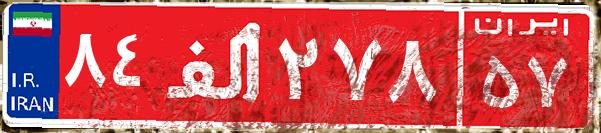2: (273, 28, 330, 110)
4: (110, 28, 158, 105)
5: (475, 38, 525, 113)
7: (330, 28, 385, 110), (525, 38, 570, 115)
8: (385, 28, 445, 110), (57, 26, 110, 107)
الف: (158, 15, 273, 115)
